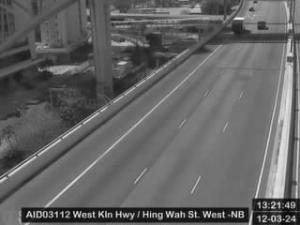truck: (232, 17, 244, 31)
vehicle: (257, 22, 265, 30), (250, 8, 254, 12), (253, 1, 257, 3)
